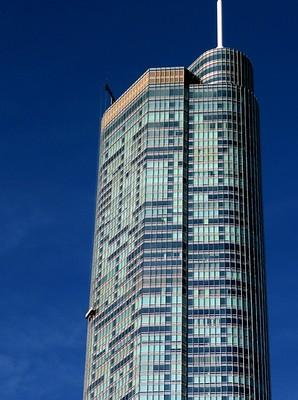building: (79, 44, 272, 400)
